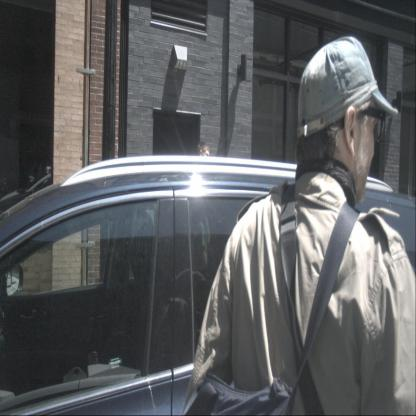human-pedestrian-adult: (182, 36, 416, 416)
vehicle-car: (0, 155, 416, 416)
